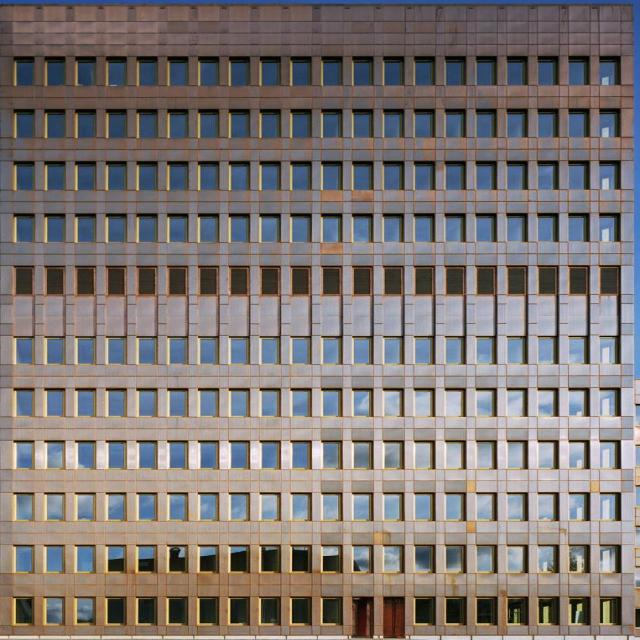door: (383, 598, 405, 640), (356, 600, 374, 638)
wall: (0, 4, 634, 638)
windows: (536, 215, 559, 242), (505, 336, 526, 364), (12, 338, 33, 364), (568, 163, 588, 189), (597, 112, 617, 137), (508, 111, 525, 138), (570, 111, 587, 138), (45, 163, 62, 190), (290, 163, 307, 190), (412, 163, 429, 190), (17, 60, 34, 86), (108, 60, 125, 86), (168, 60, 185, 86), (262, 60, 279, 86), (291, 60, 308, 86), (413, 60, 430, 86), (447, 60, 464, 86), (572, 59, 589, 85), (166, 112, 183, 138), (200, 113, 217, 139), (289, 112, 306, 138), (323, 112, 340, 138), (445, 112, 462, 138), (600, 163, 617, 189), (17, 164, 34, 190), (107, 164, 124, 190), (167, 164, 184, 190), (446, 164, 463, 190), (601, 215, 618, 241), (601, 215, 618, 241), (16, 216, 33, 242), (46, 216, 63, 242), (80, 216, 97, 242), (202, 216, 219, 242), (231, 216, 248, 242), (325, 216, 342, 242), (385, 216, 402, 242), (476, 216, 493, 242), (510, 214, 527, 240), (535, 336, 552, 362), (569, 336, 586, 362), (105, 337, 122, 363), (136, 337, 153, 363), (165, 337, 182, 363), (350, 337, 367, 363), (410, 337, 427, 363), (511, 389, 528, 415), (602, 389, 619, 415), (47, 390, 64, 416), (203, 390, 220, 416), (292, 390, 309, 416), (326, 390, 343, 416), (386, 390, 403, 416), (448, 390, 465, 416), (477, 390, 494, 416), (511, 389, 528, 415), (600, 440, 617, 466), (45, 441, 62, 467), (107, 441, 124, 467), (167, 441, 184, 467), (412, 441, 429, 467), (446, 441, 463, 467), (571, 440, 588, 466), (17, 494, 34, 520), (78, 494, 95, 520), (138, 494, 155, 520), (229, 494, 246, 520), (261, 493, 278, 519), (352, 494, 369, 520), (383, 494, 400, 520), (412, 494, 429, 520), (474, 494, 491, 520), (537, 492, 554, 518), (17, 494, 34, 520), (46, 546, 63, 572), (107, 546, 124, 572), (167, 546, 184, 572), (290, 546, 307, 572), (412, 546, 429, 572), (446, 546, 463, 572), (571, 545, 588, 571), (600, 545, 617, 571), (604, 597, 621, 623), (542, 597, 559, 623), (478, 598, 495, 624), (416, 598, 433, 624), (572, 598, 589, 624), (478, 598, 495, 624), (416, 598, 433, 624), (321, 598, 338, 624), (231, 598, 248, 624), (199, 599, 216, 625), (166, 598, 183, 624), (78, 598, 95, 624), (17, 268, 34, 294), (108, 268, 125, 294), (168, 268, 185, 294), (262, 268, 279, 294), (291, 268, 308, 294), (413, 268, 430, 294), (447, 268, 464, 294), (572, 267, 589, 293), (537, 111, 553, 138), (262, 163, 278, 190), (324, 163, 340, 190), (353, 163, 369, 190), (384, 163, 400, 190), (48, 113, 65, 138), (227, 338, 244, 363), (259, 337, 276, 362), (288, 337, 305, 362), (290, 441, 307, 466), (46, 60, 62, 86), (80, 60, 96, 86), (140, 60, 156, 86), (202, 60, 218, 86), (231, 60, 247, 86), (325, 60, 341, 86), (354, 60, 370, 86), (385, 60, 401, 86), (476, 60, 492, 86), (510, 59, 526, 85), (539, 59, 555, 85), (601, 59, 617, 85), (19, 110, 35, 136), (78, 112, 94, 138), (107, 112, 123, 138), (138, 112, 154, 138), (229, 113, 245, 139), (261, 112, 277, 138), (352, 112, 368, 138), (383, 112, 399, 138), (412, 112, 428, 138), (474, 112, 490, 138), (79, 164, 95, 190), (139, 164, 155, 190), (201, 164, 217, 190), (230, 164, 246, 190), (475, 164, 491, 190), (509, 163, 525, 189), (538, 163, 554, 189), (573, 215, 589, 241), (109, 216, 125, 242), (140, 216, 156, 242), (169, 216, 185, 242), (263, 216, 279, 242), (292, 216, 308, 242), (354, 216, 370, 242), (414, 216, 430, 242), (448, 216, 464, 242), (598, 336, 614, 362), (43, 337, 59, 363), (77, 337, 93, 363), (322, 337, 338, 363), (382, 337, 398, 363), (444, 337, 460, 363), (473, 337, 489, 363), (540, 389, 556, 415), (574, 389, 590, 415), (81, 390, 97, 416), (110, 390, 126, 416), (141, 390, 157, 416), (170, 390, 186, 416), (232, 390, 248, 416), (264, 390, 280, 416), (355, 390, 371, 416), (415, 390, 431, 416), (540, 389, 556, 415), (574, 389, 590, 415), (18, 442, 34, 468), (79, 441, 95, 467), (139, 441, 155, 467), (201, 441, 217, 467), (230, 441, 246, 467), (324, 441, 340, 467), (353, 441, 369, 467), (384, 441, 400, 467), (475, 441, 491, 467), (509, 440, 525, 466), (538, 440, 554, 466), (600, 492, 616, 518), (45, 494, 61, 520), (107, 494, 123, 520), (167, 494, 183, 520), (201, 494, 217, 520), (290, 493, 306, 519), (324, 494, 340, 520), (446, 494, 462, 520), (509, 492, 525, 518), (571, 492, 587, 518), (600, 492, 616, 518), (79, 546, 95, 572), (139, 546, 155, 572), (201, 546, 217, 572), (230, 546, 246, 572), (262, 546, 278, 572), (324, 546, 340, 572), (353, 546, 369, 572), (384, 546, 400, 572), (475, 546, 491, 572), (509, 545, 525, 571), (538, 545, 554, 571), (18, 546, 34, 572), (576, 597, 592, 623), (513, 597, 529, 623), (450, 598, 466, 624), (601, 599, 617, 625), (540, 598, 556, 624), (509, 598, 525, 624), (450, 598, 466, 624), (292, 598, 308, 624), (260, 598, 276, 624), (138, 598, 154, 624), (107, 598, 123, 624), (45, 598, 61, 624), (13, 598, 29, 624), (601, 267, 617, 293), (46, 268, 62, 294), (80, 268, 96, 294), (140, 268, 156, 294), (202, 269, 218, 295), (231, 269, 247, 295), (325, 268, 341, 294), (354, 268, 370, 294), (385, 268, 401, 294), (476, 268, 492, 294), (510, 267, 526, 293), (539, 267, 555, 293), (199, 338, 215, 363), (20, 391, 36, 416), (262, 441, 278, 466)
